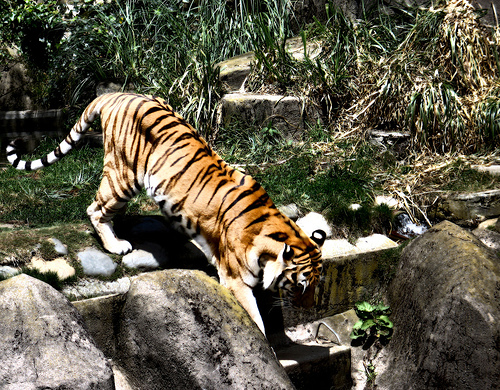Tigre: (68, 85, 333, 316)
